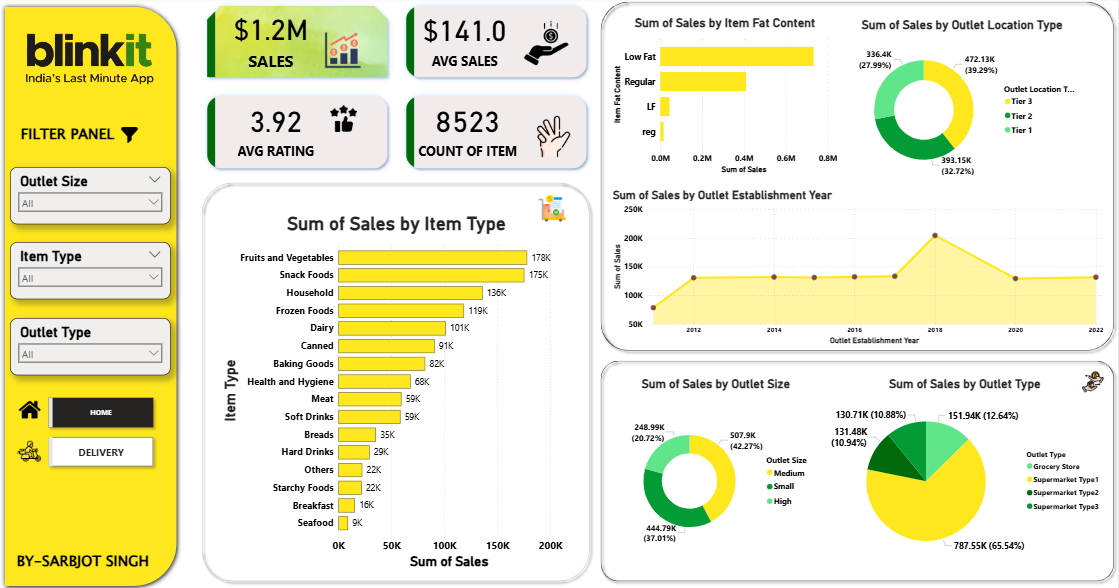

This screenshot's page, from the dashboard's own definition file:
{"tool":"powerbi","page":{"name":"HOME","canvas":[2090,1117],"ordinal":0},"visuals":[{"type":"cardVisual","fields":{"Data":["Avg(BlinkIT Grocery Data.Rating)"]},"box":[369.4,167.3,371.4,169.4],"z":0},{"type":"cardVisual","fields":{"Data":["Avg(BlinkIT Grocery Data.Sales)"]},"box":[740.8,0,371.4,167.3],"z":1000},{"type":"cardVisual","fields":{"Data":["Sum(BlinkIT Grocery Data.Sales)"]},"box":[369.4,0,371.4,167.3],"z":2000},{"type":"cardVisual","fields":{"Data":["CountNonNull(BlinkIT Grocery Data.Item Identifier)"]},"box":[740.8,167.3,371.4,169.4],"z":3000},{"type":"shape","box":[0,8.9,338.9,1100],"z":4000},{"type":"image","box":[10.2,40.8,316.3,149],"z":5000},{"type":"shape","box":[367.5,337.5,742.5,762.5],"z":6000},{"type":"clusteredBarChart","fields":{"Category":["BlinkIT Grocery Data.Item Type"],"Y":["Sum(BlinkIT Grocery Data.Sales)"]},"box":[406.7,403.3,666.7,670],"z":7000},{"type":"shape","box":[1113.3,670,976.7,430],"z":8000},{"type":"donutChart","fields":{"Category":["BlinkIT Grocery Data.Outlet Size"],"Y":["Sum(BlinkIT Grocery Data.Sales)"]},"box":[1140,710,395,362.5],"z":9000},{"type":"donutChart","fields":{"Category":["BlinkIT Grocery Data.Outlet Location Type"],"Y":["Sum(BlinkIT Grocery Data.Sales)"]},"box":[1570,40,452.5,317.5],"z":10000},{"type":"shape","box":[1113.3,0,976.7,670],"z":11000},{"type":"clusteredBarChart","fields":{"Y":["Sum(BlinkIT Grocery Data.Sales)"],"Category":["BlinkIT Grocery Data.Item Fat Content"]},"box":[1138.9,35.2,429.6,300],"z":12000},{"type":"lineChart","fields":{"Y":["Sum(BlinkIT Grocery Data.Sales)"],"Category":["BlinkIT Grocery Data.Outlet Establishment Year"]},"box":[1140,356.7,926.7,296.7],"z":13000},{"type":"pieChart","fields":{"Series":["BlinkIT Grocery Data.Outlet Type"],"Y":["Sum(BlinkIT Grocery Data.Sales)"]},"box":[1536.7,710,530,363.3],"z":14000},{"type":"image","box":[964,365,134,61],"z":15000},{"type":"image","box":[2014.5,692.7,51.8,52.7],"z":16000},{"type":"slicer","fields":{"Values":["BlinkIT Grocery Data.Outlet Size"]},"box":[17.8,317.8,300,106.7],"z":17000},{"type":"slicer","fields":{"Values":["BlinkIT Grocery Data.Item Type"]},"box":[17.8,457.8,300,106.7],"z":18000},{"type":"slicer","fields":{"Values":["BlinkIT Grocery Data.Outlet Type"]},"box":[17.8,600,300,106.7],"z":19000},{"type":"textbox","box":[17.5,232.5,300,65],"z":20000},{"type":"image","box":[207,233,68,47],"z":21000},{"type":"textbox","box":[10,1030,285,70],"z":22000},{"type":"pageNavigator","box":[82.2,738.9,213.3,146.7],"z":23000},{"type":"image","box":[27.8,744.4,54.4,51.1],"z":24000},{"type":"image","box":[25.5,820,57.3,59.1],"z":25000}]}

Visuals, with their boxes in screenshot pixels (x1, y1, x2, y2), scaled from the page's 2090x1117 canvas onto the 1119x588 screenshot:
cardVisual - Avg(BlinkIT Grocery Data.Rating): <box>198,88,397,177</box>
cardVisual - Avg(BlinkIT Grocery Data.Sales): <box>397,0,595,88</box>
cardVisual - Sum(BlinkIT Grocery Data.Sales): <box>198,0,397,88</box>
cardVisual - CountNonNull(BlinkIT Grocery Data.Item Identifier): <box>397,88,595,177</box>
shape: <box>0,5,181,584</box>
image: <box>5,21,175,100</box>
shape: <box>197,178,594,579</box>
clusteredBarChart - BlinkIT Grocery Data.Item Type x Sum(BlinkIT Grocery Data.Sales): <box>218,212,575,565</box>
shape: <box>596,353,1118,579</box>
donutChart - BlinkIT Grocery Data.Outlet Size x Sum(BlinkIT Grocery Data.Sales): <box>610,374,822,565</box>
donutChart - BlinkIT Grocery Data.Outlet Location Type x Sum(BlinkIT Grocery Data.Sales): <box>841,21,1083,188</box>
shape: <box>596,0,1118,353</box>
clusteredBarChart - Sum(BlinkIT Grocery Data.Sales) x BlinkIT Grocery Data.Item Fat Content: <box>610,19,840,176</box>
lineChart - Sum(BlinkIT Grocery Data.Sales) x BlinkIT Grocery Data.Outlet Establishment Year: <box>610,188,1107,344</box>
pieChart - BlinkIT Grocery Data.Outlet Type x Sum(BlinkIT Grocery Data.Sales): <box>823,374,1107,565</box>
image: <box>516,192,588,224</box>
image: <box>1079,365,1106,392</box>
slicer - BlinkIT Grocery Data.Outlet Size: <box>10,167,170,223</box>
slicer - BlinkIT Grocery Data.Item Type: <box>10,241,170,297</box>
slicer - BlinkIT Grocery Data.Outlet Type: <box>10,316,170,372</box>
textbox: <box>9,122,170,157</box>
image: <box>111,123,147,147</box>
textbox: <box>5,542,158,579</box>
pageNavigator: <box>44,389,158,466</box>
image: <box>15,392,44,419</box>
image: <box>14,432,44,463</box>
